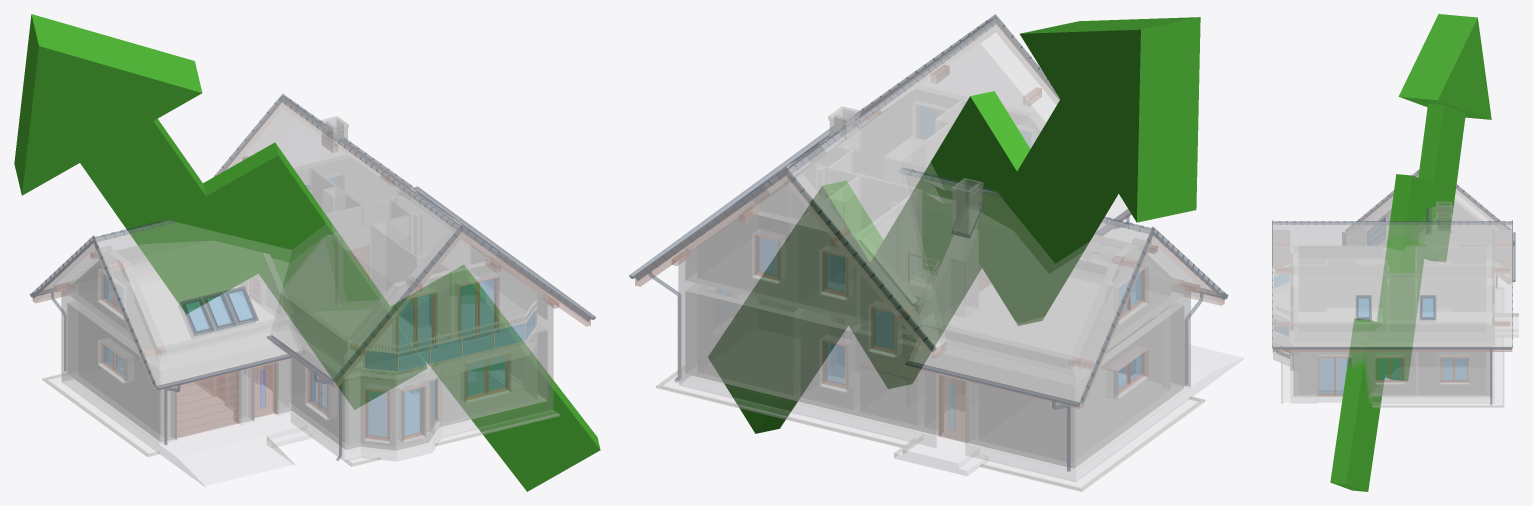
File: airinvst2.glb
3 views of the same model, side by side, from view 1: azimuth 30°, elevation 25°; view 2: azimuth 150°, elevation 25°; view 3: azimuth 270°, elevation 25° (orthographic). The views are drawn at different scales.
Parts seen in each view (by area): view 1: house_10, Cube.020, Cube.021; view 2: house_10, Cube.020, Cube.021; view 3: house_10, Cube.020, Cube.021.
Part boxes in pixels (bbox=[...]): house_10: bbox=[30, 94, 595, 486]; Cube.020: bbox=[80, 119, 600, 491]; Cube.021: bbox=[14, 14, 202, 195]; house_10: bbox=[629, 14, 1243, 491]; Cube.020: bbox=[708, 91, 1118, 433]; Cube.021: bbox=[1020, 17, 1200, 222]; house_10: bbox=[1272, 170, 1518, 407]; Cube.020: bbox=[1330, 103, 1465, 491]; Cube.021: bbox=[1398, 14, 1491, 119].
Bounding box in the file's own units: 7.93 × 7.75 × 5.08.
